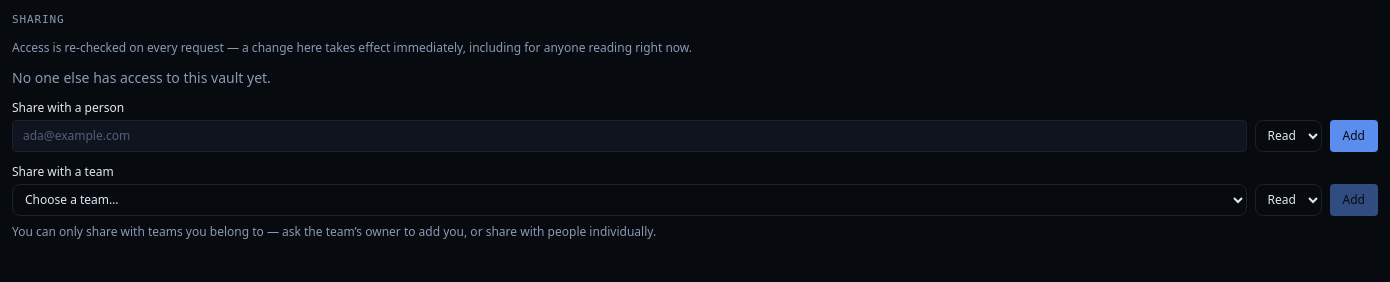
Test: SharingPanel › a 404 lookup shows the inline not-found message and never POSTs a share
Expected: the text "No one else has access to this vault yet." is shown, 12,68 -> 271,87
Type "ghost@example.com" into the field labelled "Share with a person" at {"x": 629, "y": 136}, box 12,120 -> 1247,152
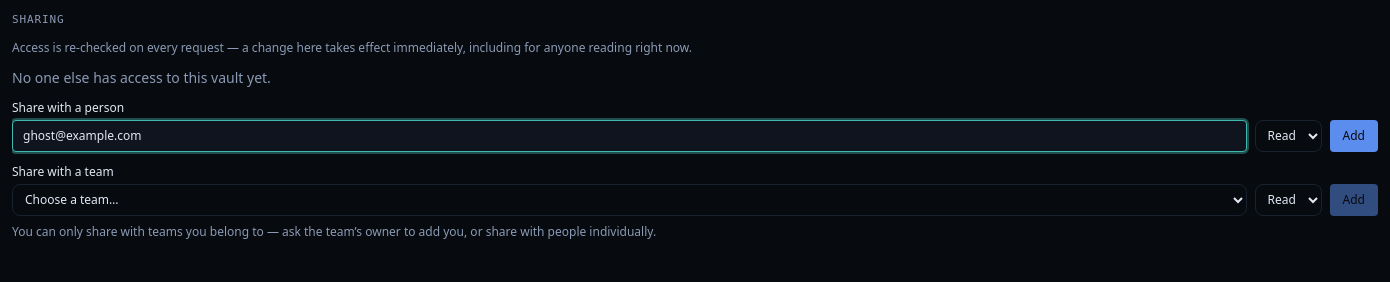
Click the 1st button "Add" at {"x": 1354, "y": 136}, box 1330,120 -> 1378,152
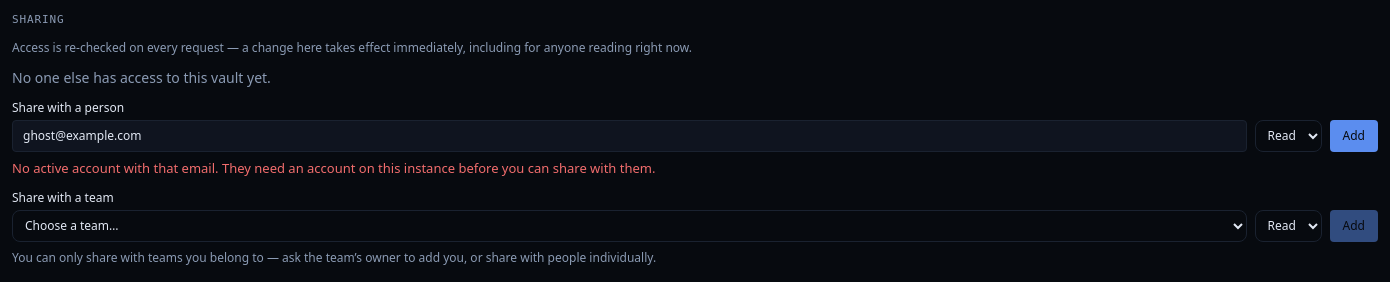
Result: the text "No active account with that email. They need an account on this instance before you can share with them." is shown at 12,159 -> 656,177
